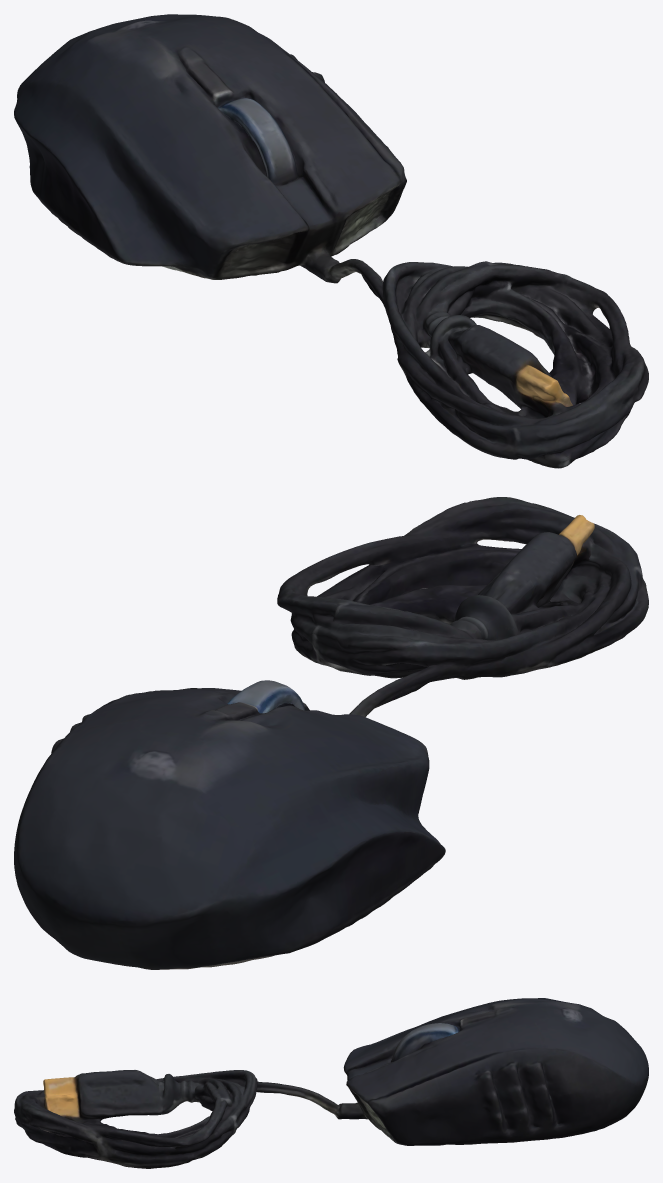
File: Razer_Naga_MMO_Gaming_Mouse.glb
3 renders of one model, top to bottom at view 1: azimuth 30°, elevation 25°; view 2: azimuth 150°, elevation 25°; view 3: azimuth 270°, elevation 25°, orthographic. The views are drawn at different scales.
Parts seen in each view (by area): view 1: geometry_0; view 2: geometry_0; view 3: geometry_0.
Boxes of the visible parts, left/top/right/bottom form: geometry_0: left=14, top=14, right=648, bottom=468; geometry_0: left=14, top=497, right=648, bottom=969; geometry_0: left=14, top=998, right=648, bottom=1168.
Size of the model in its own units: 0.3909 by 0.2036 by 1.
Materials: 1 (1 with a texture image).
